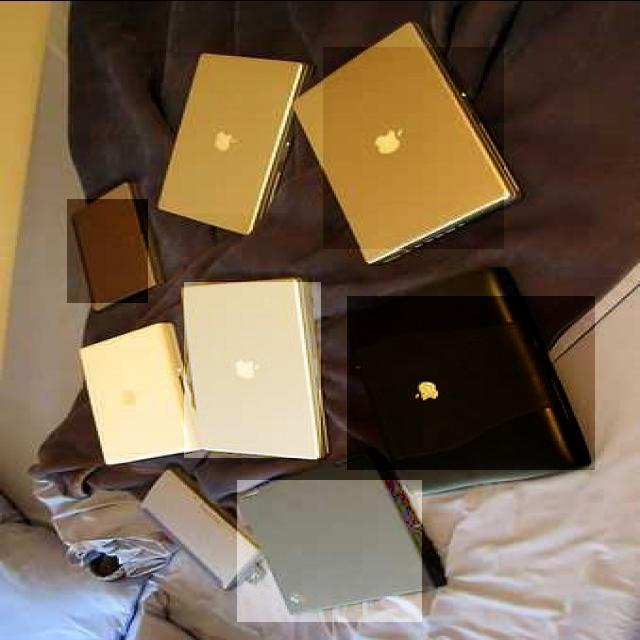-keyboard-: (347, 296, 595, 470), (323, 48, 504, 250), (237, 480, 422, 622), (184, 282, 321, 458), (164, 58, 288, 213), (67, 199, 148, 303)
